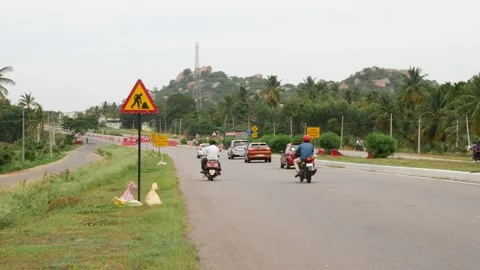bike: (294, 135, 316, 182), (201, 141, 222, 181)
car: (281, 141, 316, 169), (246, 141, 272, 163), (226, 140, 250, 160)
caution: (120, 79, 158, 114)
